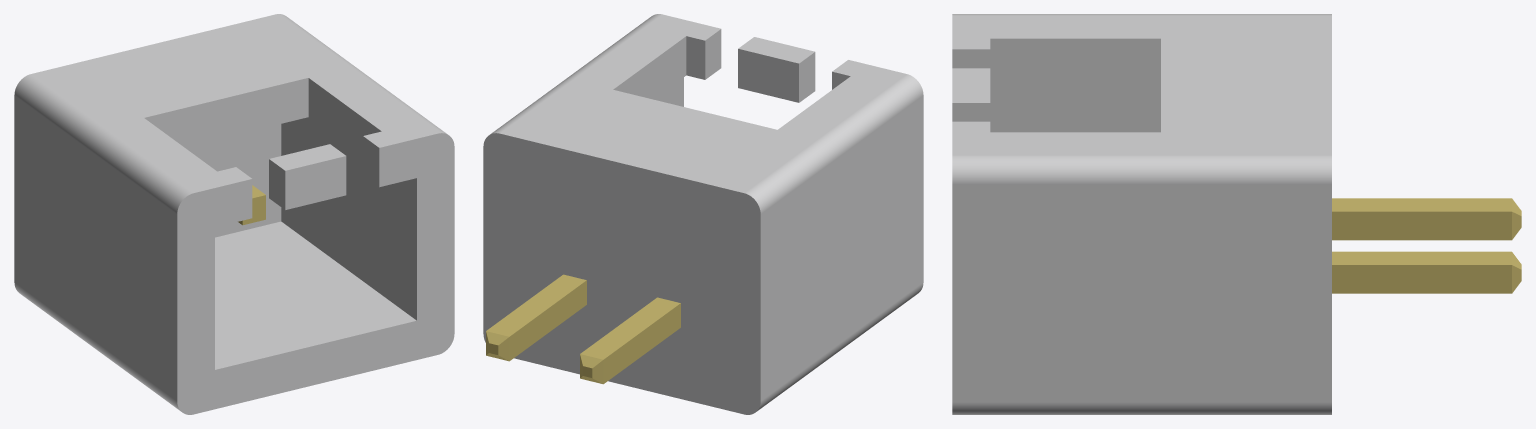
The model's file is jst_ph_2pin.glb.
3 views of the same model, side by side, from view 1: azimuth 30°, elevation 25°; view 2: azimuth 150°, elevation 25°; view 3: azimuth 270°, elevation 25° (orthographic). The views are drawn at different scales.
Visible parts, largest first — view 1: world; view 2: world; view 3: world.
Part boxes in pixels (x1,y1,x2,y2): world: [14, 14, 454, 414]; world: [483, 14, 923, 414]; world: [952, 14, 1521, 414].
Bounding box in the file's own units: 5.9 × 4.5 × 9.
